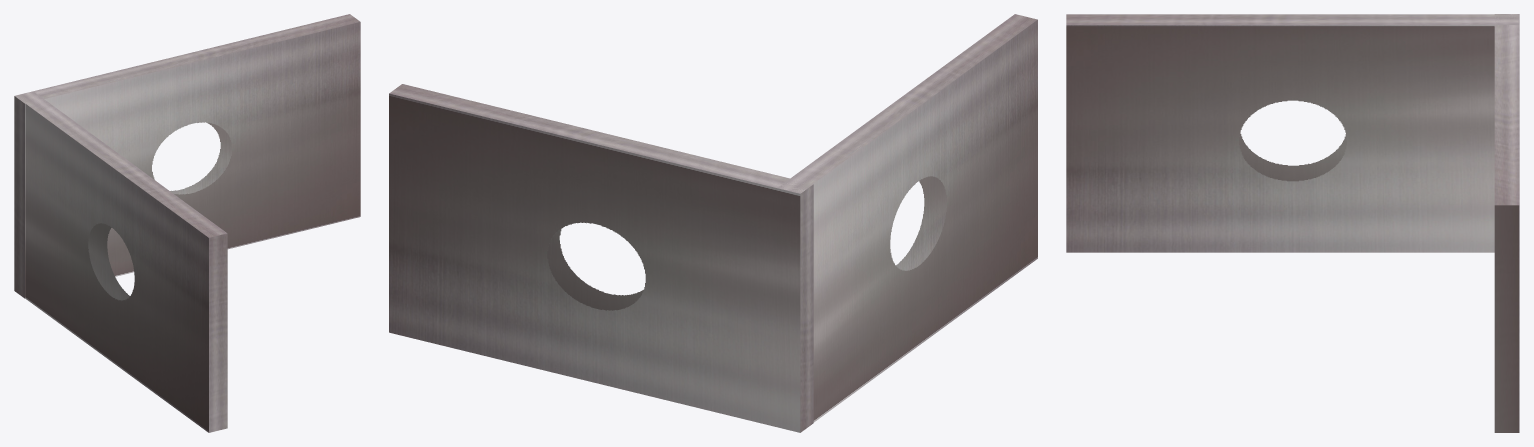
Rendered from Metallic.obj.
3 views of the same model, side by side, from view 1: azimuth 30°, elevation 25°; view 2: azimuth 150°, elevation 25°; view 3: azimuth 270°, elevation 25° (orthographic). The views are drawn at different scales.
Visible parts, largest first — view 1: Ti:pCube2; view 2: Ti:pCube2; view 3: Ti:pCube2.
Part boxes in pixels (x1=…): Ti:pCube2: x1=14, y1=14, x2=360, y2=432; Ti:pCube2: x1=389, y1=14, x2=1037, y2=432; Ti:pCube2: x1=1066, y1=14, x2=1519, y2=432.
Size of the model in its own units: 14.4 by 8 by 14.43.
2 materials, 2 textured.
